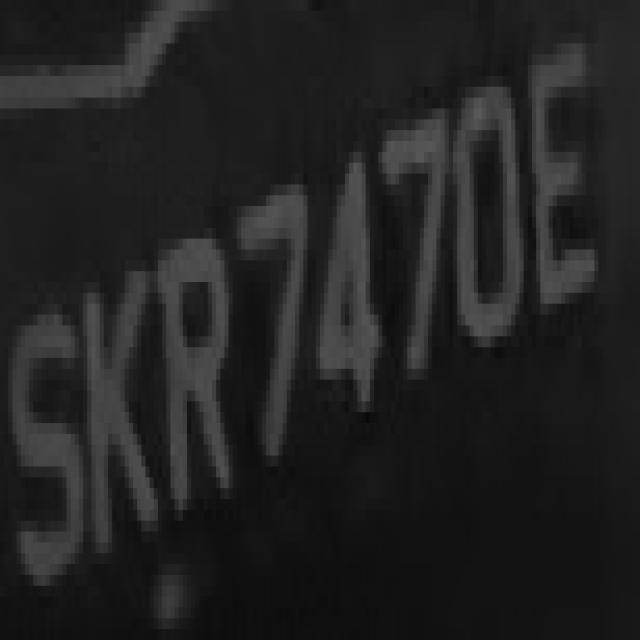0: (449, 76, 532, 423)
4: (303, 108, 395, 456)
7: (370, 76, 461, 434), (241, 130, 320, 499)
E: (519, 33, 611, 347)
K: (75, 174, 162, 553)
R: (162, 195, 241, 553)
S: (12, 261, 88, 618)
